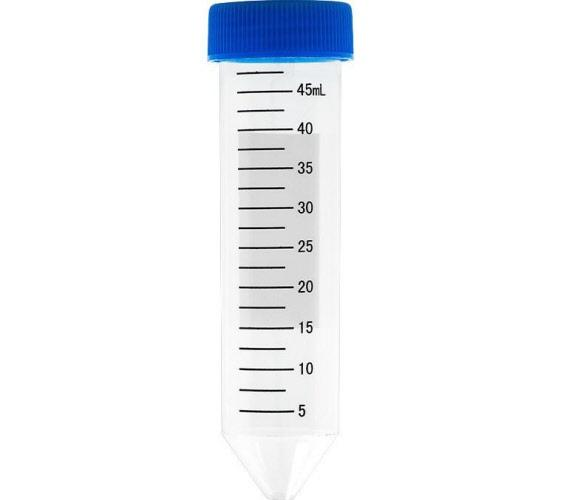Test tube: (209, 7, 348, 498)
